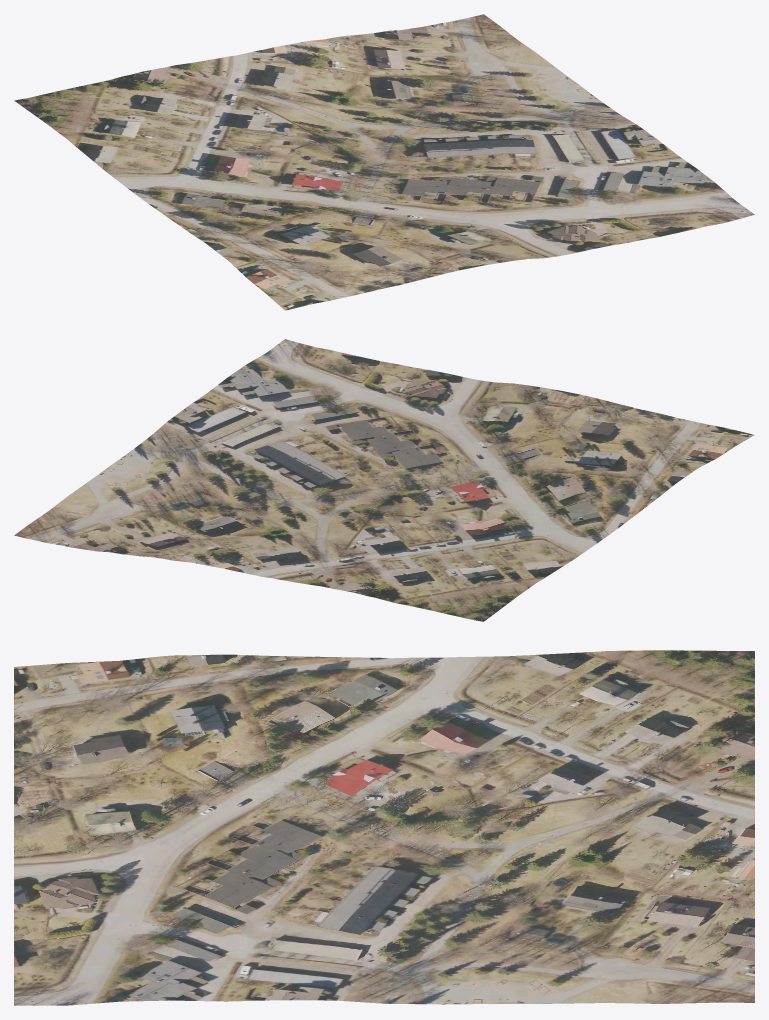
The model's file is CM_Terrain_24490663_6821227.fbx.
The picture shows the model from 3 angles, top to bottom: view 1: azimuth 30°, elevation 25°; view 2: azimuth 150°, elevation 25°; view 3: azimuth 270°, elevation 25°; orthographic projection. The views are drawn at different scales.
Visible parts, largest first — view 1: CM_Terrain_24490663_6821227_LOD0; view 2: CM_Terrain_24490663_6821227_LOD0; view 3: CM_Terrain_24490663_6821227_LOD0.
Part boxes in pixels (bbox=[...]): CM_Terrain_24490663_6821227_LOD0: bbox=[14, 14, 754, 310]; CM_Terrain_24490663_6821227_LOD0: bbox=[14, 339, 754, 621]; CM_Terrain_24490663_6821227_LOD0: bbox=[14, 650, 754, 1005].
Size of what is drawn, in the model's own units: 205 by 13.43 by 205.
